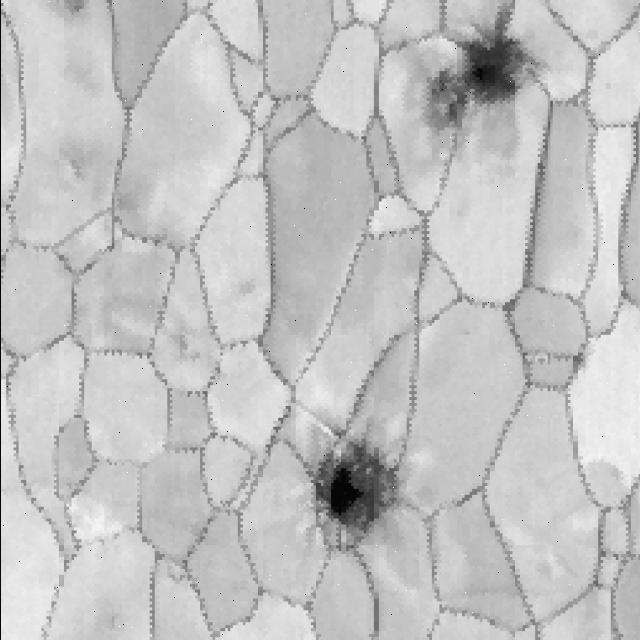good_void: (422, 0, 537, 144), (302, 433, 407, 548), (167, 318, 211, 369), (46, 0, 92, 25), (560, 344, 590, 377), (531, 347, 551, 376)
